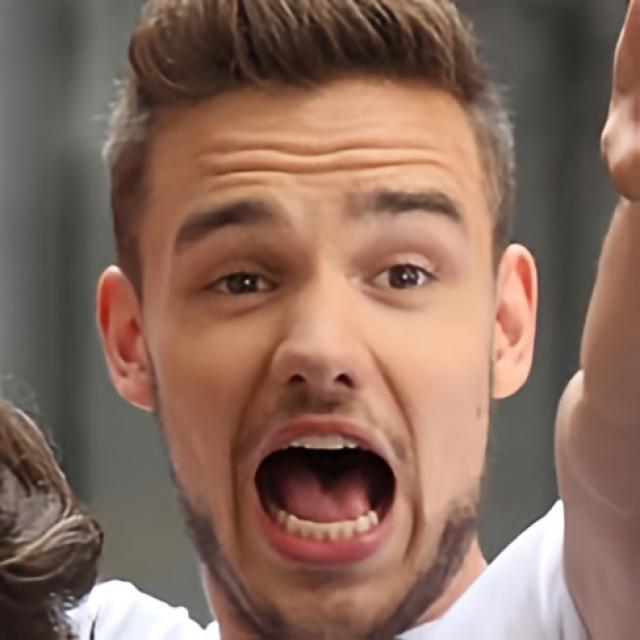surprise: (141, 73, 493, 640)
